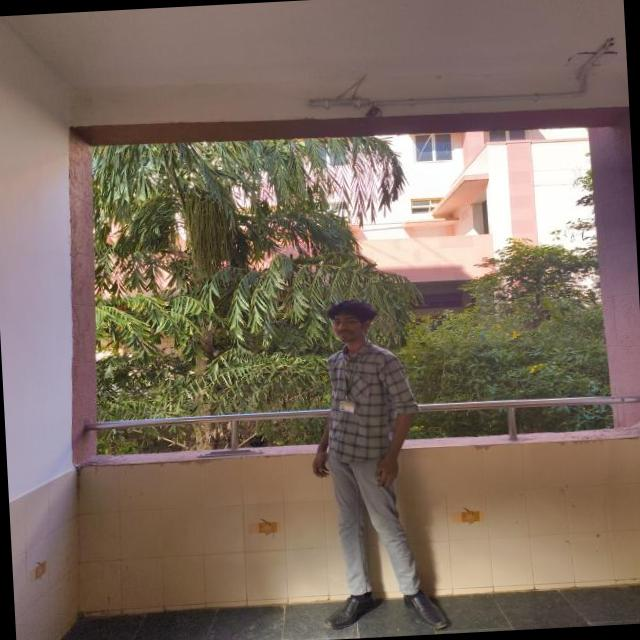id_card: (333, 348, 368, 422)
